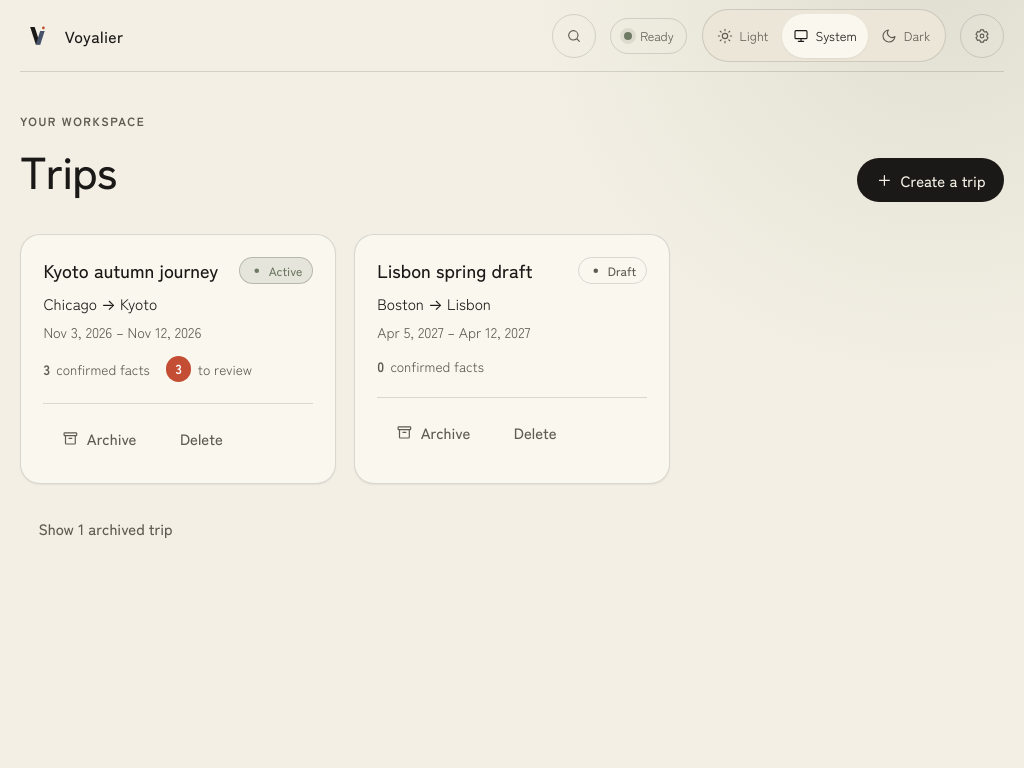
Scenario: delete-trip confirmation › enables Delete only when the word the field asks for is typed
Click the button with aria-label "Open Kyoto autumn journey". click: point(131, 270)
box: x1=43 y1=257 x2=218 y2=283
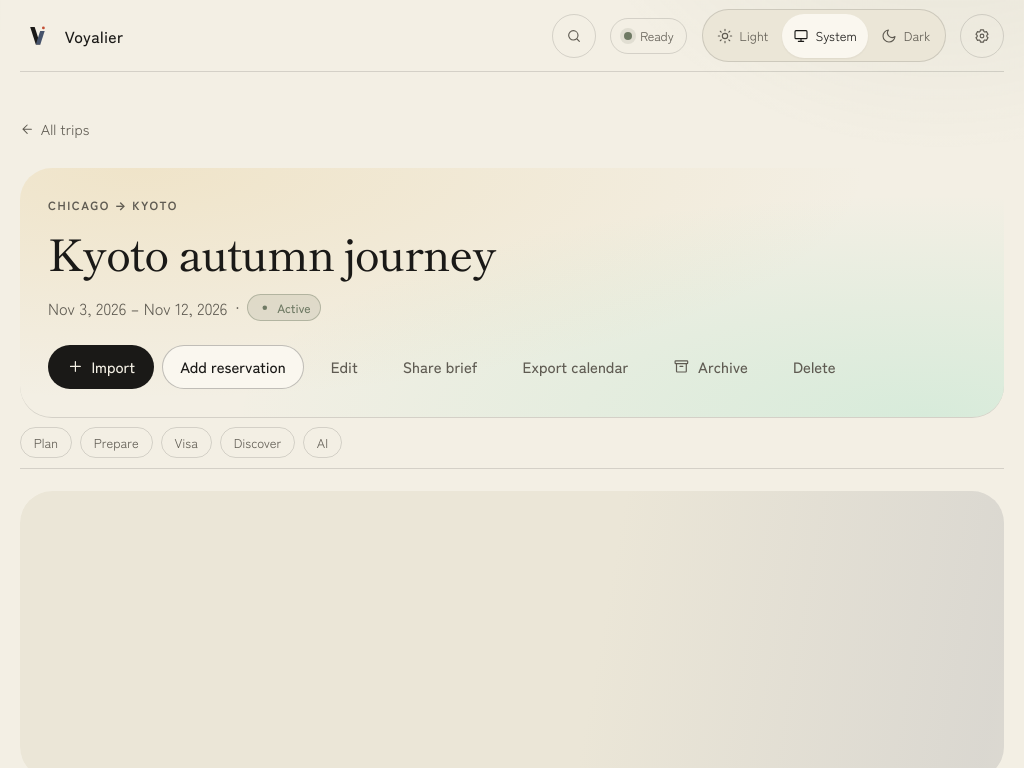
Check: the heading "Kyoto autumn journey" is shown, box x1=48 y1=221 x2=496 y2=283
Click the button "Delete". click: point(814, 367)
box: x1=774 y1=345 x2=854 y2=389
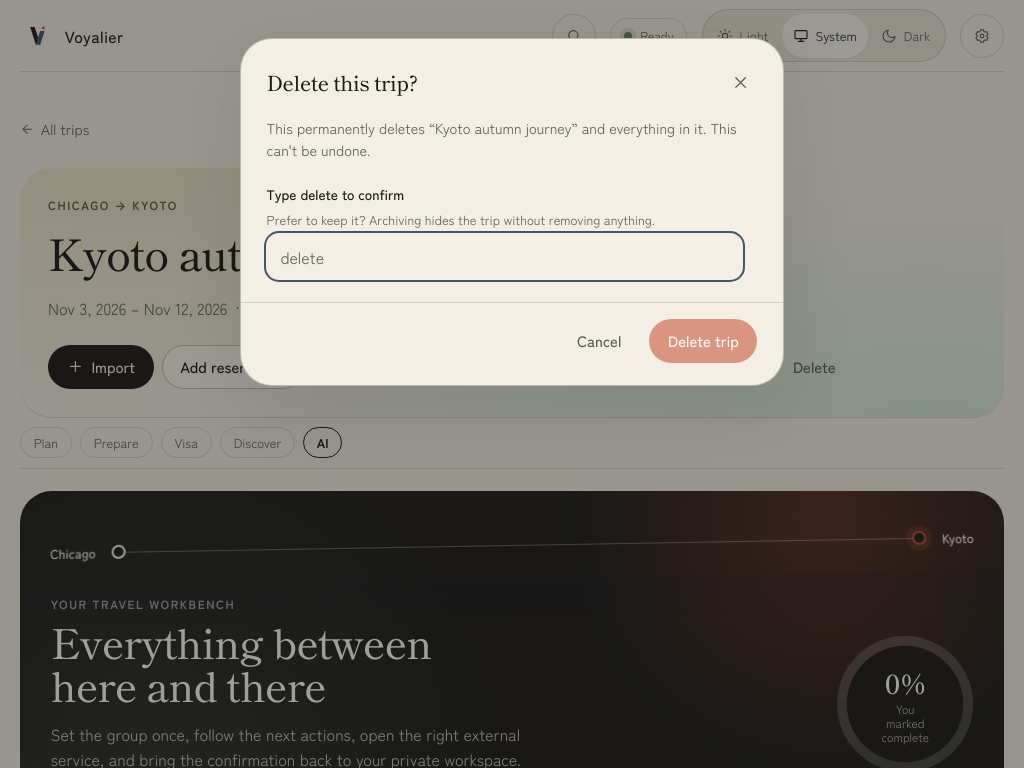
Check: the button "Delete trip" is disabled, box x1=650 y1=319 x2=757 y2=363
A wrong word does not enable it.
Type "remove" into the field labelled "Type delete to confirm". click: point(504, 257)
box: x1=267 y1=234 x2=742 y2=279
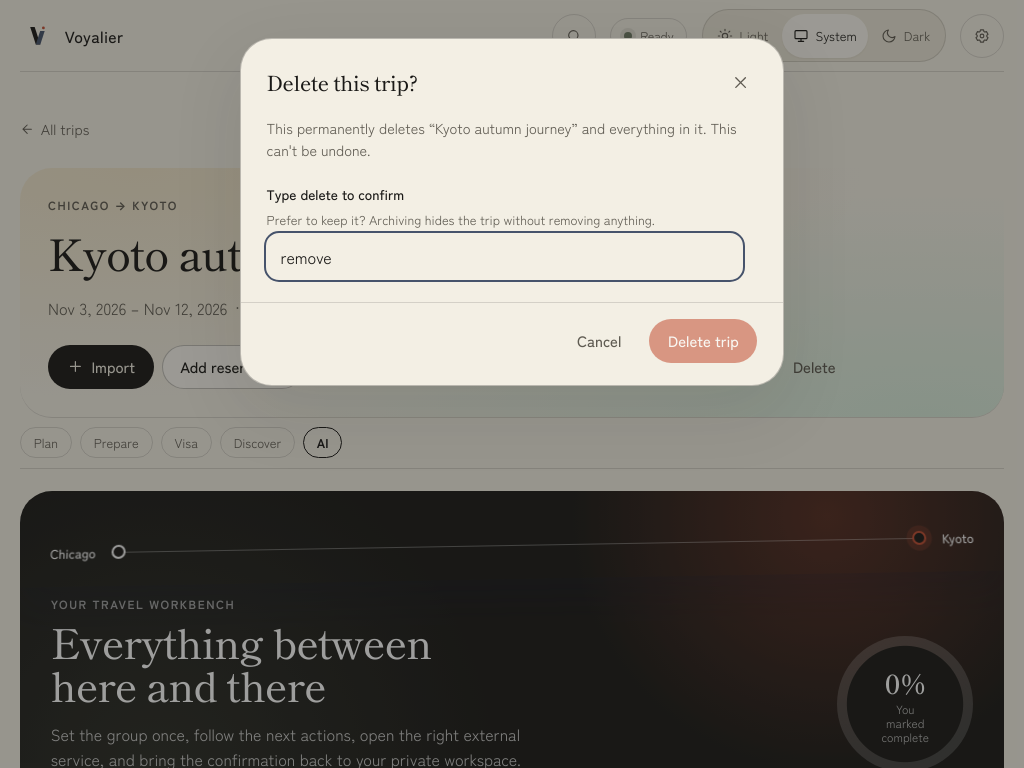
Check: the button "Delete trip" is disabled, box x1=650 y1=319 x2=757 y2=363
Replace the text in the field labelled "Type delete to confirm" with "delete". click: point(504, 257)
box: x1=267 y1=234 x2=742 y2=279
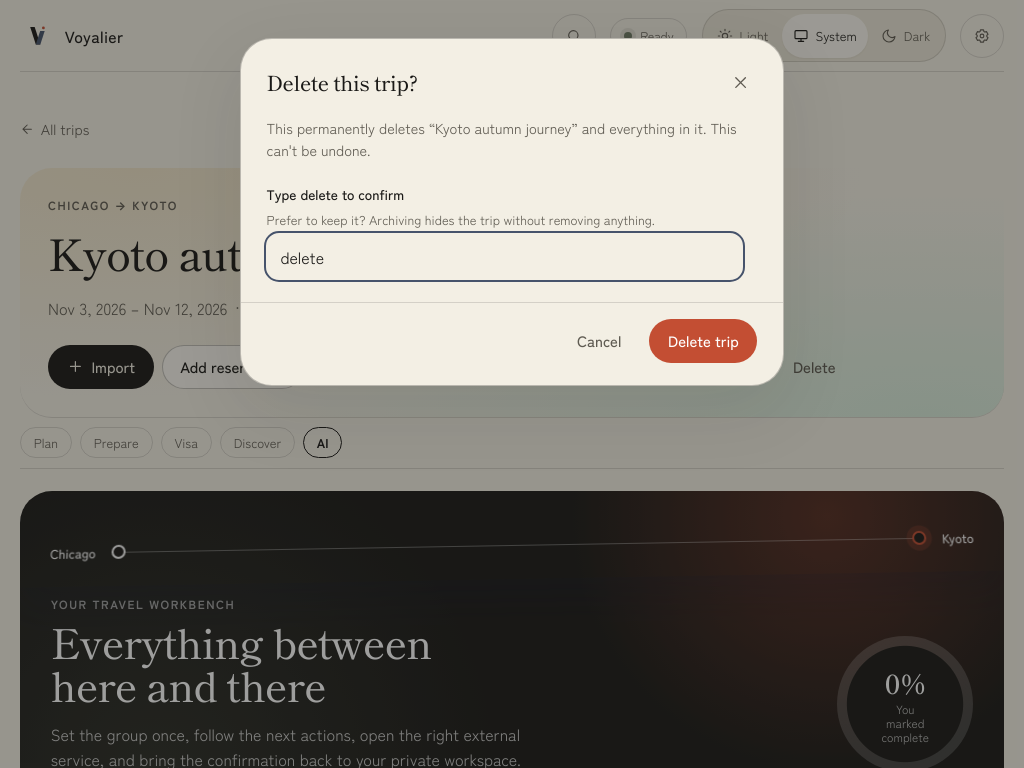
Check: the button "Delete trip" is enabled, box x1=650 y1=319 x2=757 y2=363
